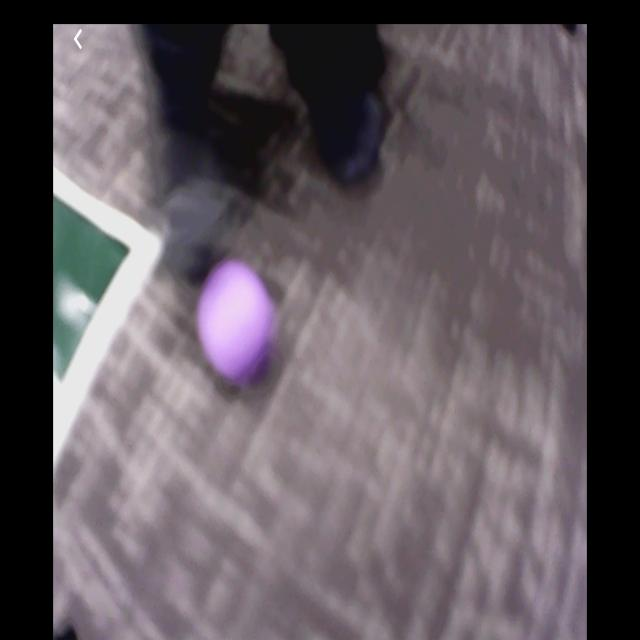ball: (195, 258, 277, 389)
